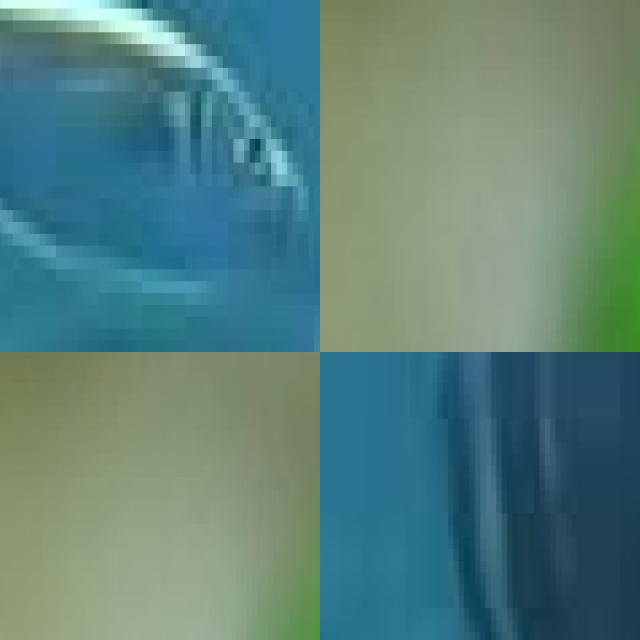fish: (0, 0, 320, 352), (320, 0, 615, 352)
